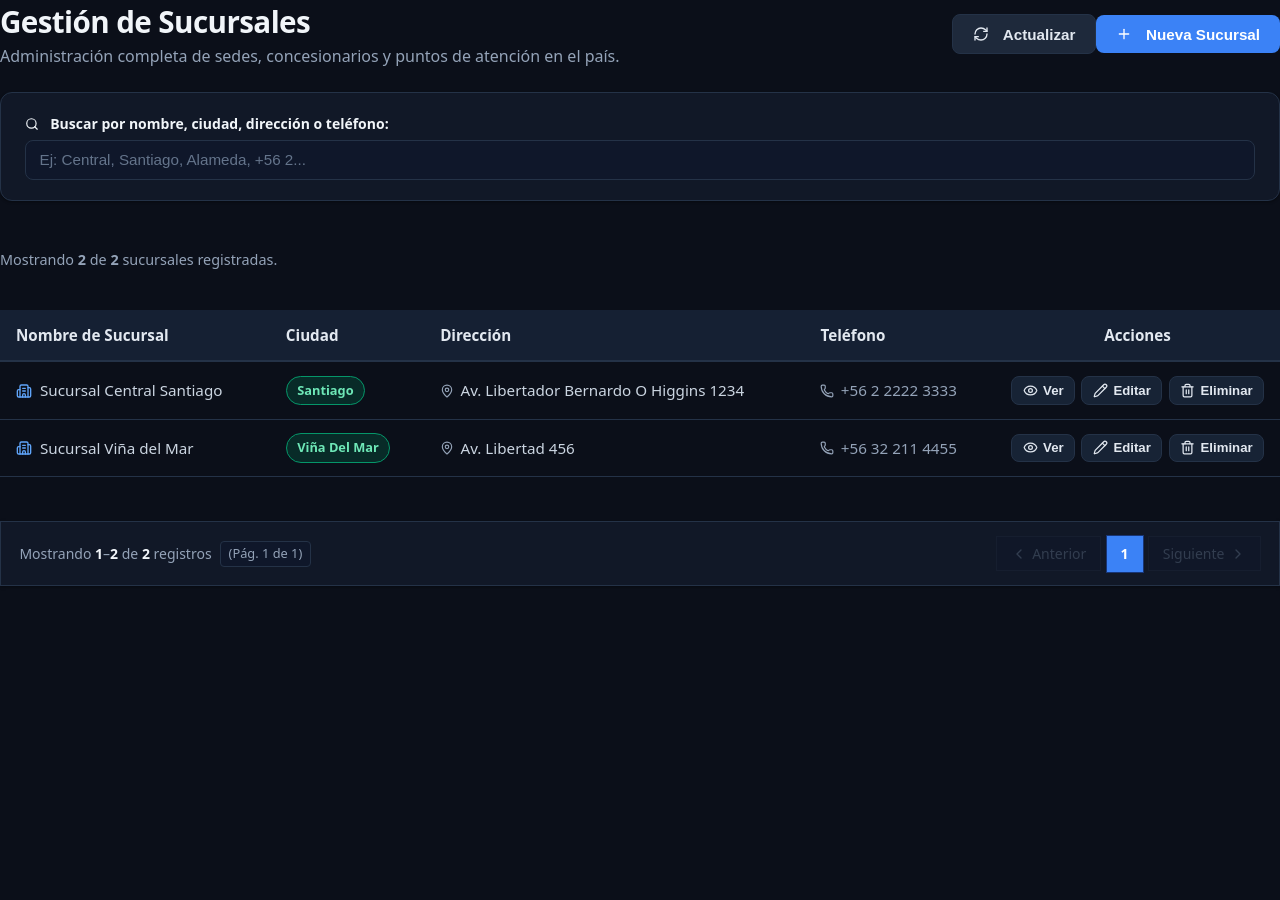
Test: Módulo CRUD de Sucursales (SucursalesPage.tsx) › muestra errores de validación si los campos obligatorios están vacíos
Expected: the text "Sucursal Central Santiago" is shown, [40, 379, 222, 402]
Click the button with aria-label "registrar nueva sucursal". click: (1188, 34)
box: [1096, 15, 1279, 53]
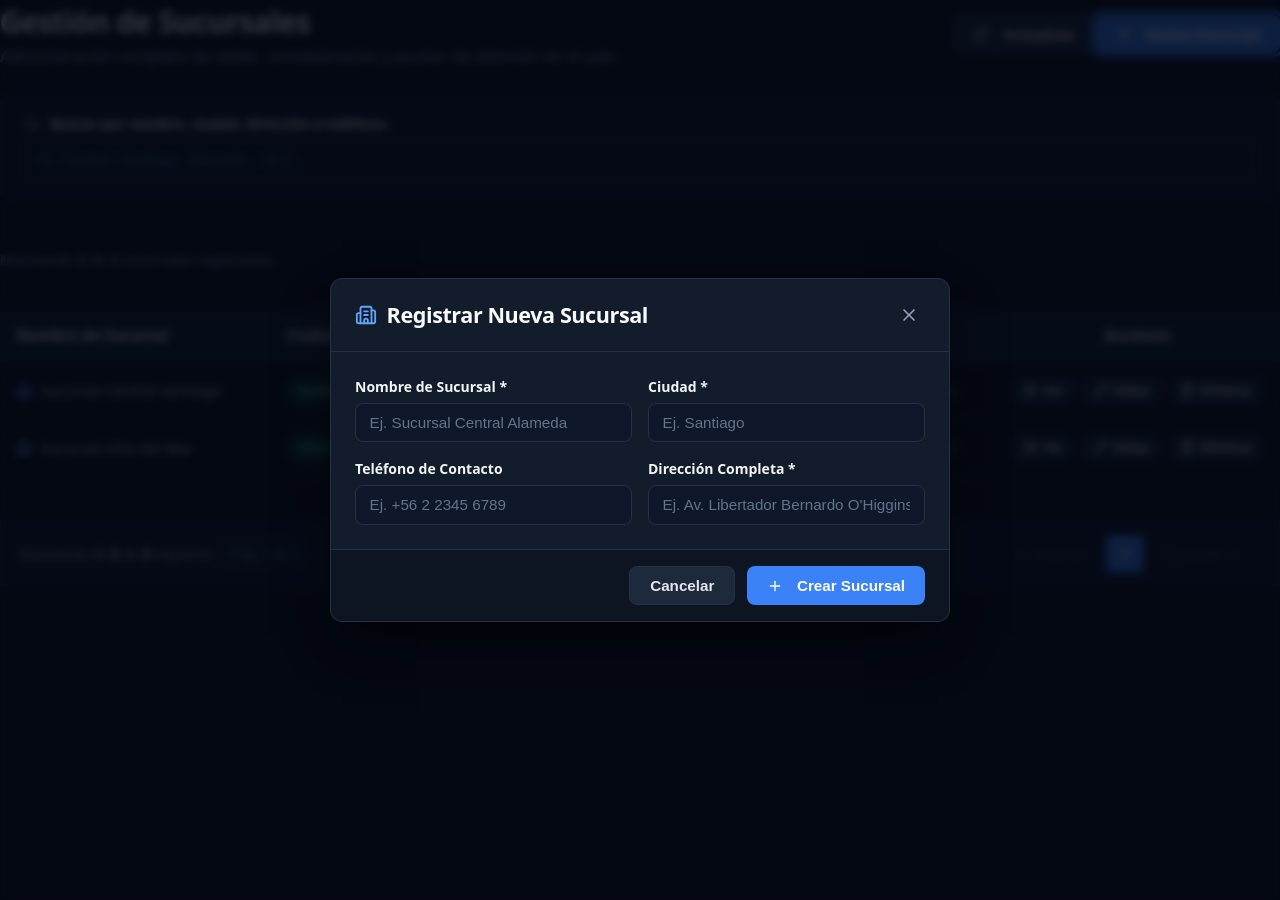
Click the button "Crear Sucursal". click: (836, 586)
box: [747, 566, 925, 606]
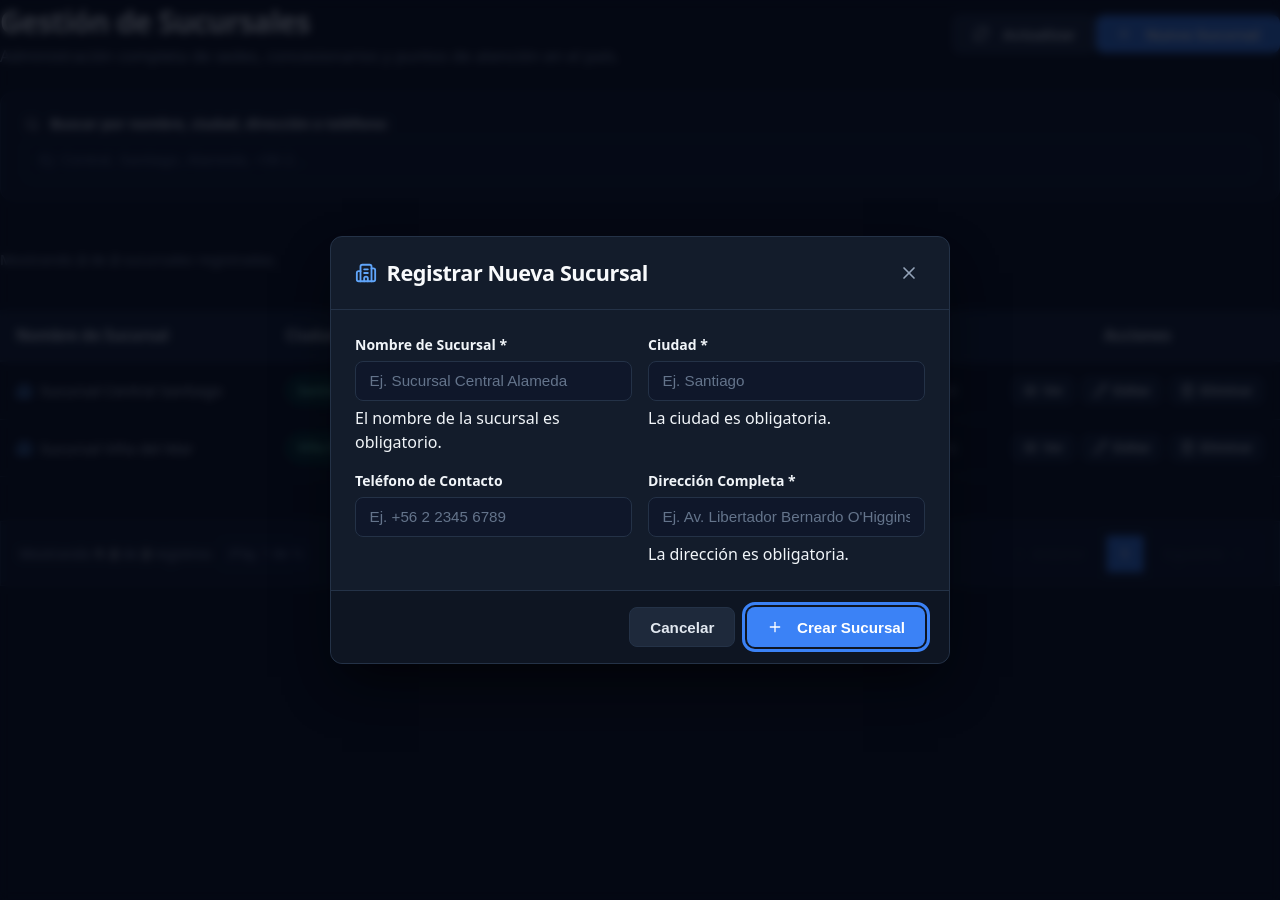
Expected: the text "El nombre de la sucursal es obligatorio." is shown, [355, 407, 560, 453]
Expected: the text "La ciudad es obligatoria." is shown, [648, 407, 831, 429]
Expected: the text "La dirección es obligatoria." is shown, [648, 543, 849, 565]
